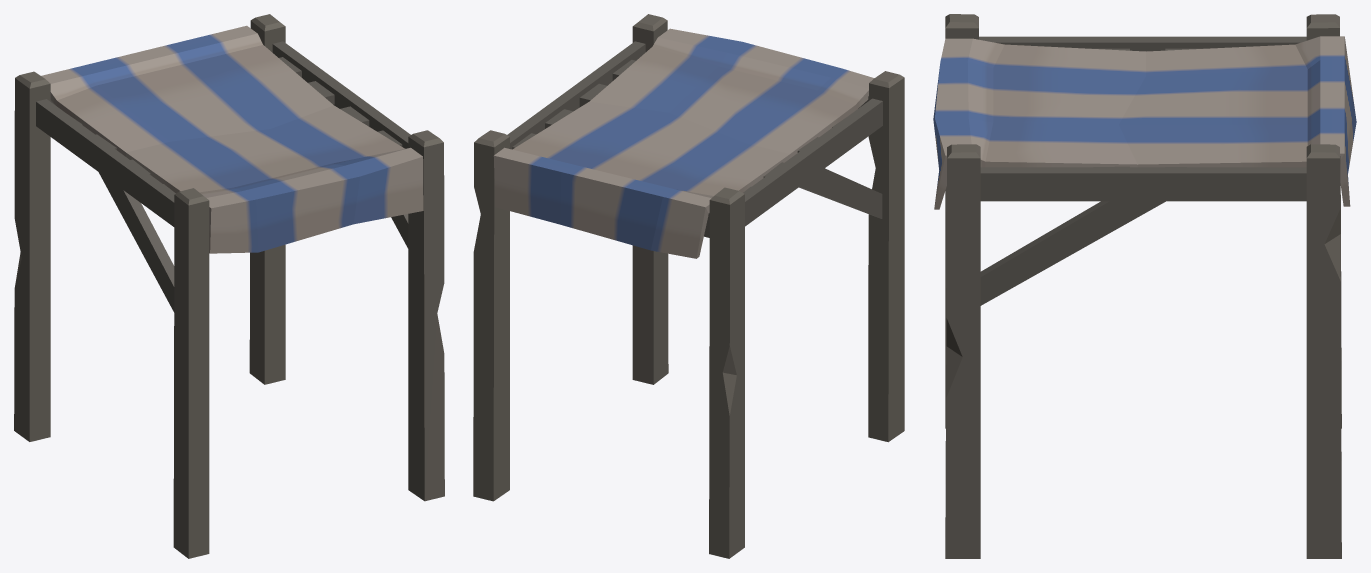
File: SM_Bld_Village_ClothCover_03.fbx
The picture shows the model from 3 angles, left to right: view 1: azimuth 30°, elevation 25°; view 2: azimuth 150°, elevation 25°; view 3: azimuth 270°, elevation 25°; orthographic projection. The views are drawn at different scales.
Parts seen in each view (by area): view 1: SM_Bld_Village_ClothCover_03, SM_Bld_Village_ClothCover_Cloth_03; view 2: SM_Bld_Village_ClothCover_03, SM_Bld_Village_ClothCover_Cloth_03; view 3: SM_Bld_Village_ClothCover_03, SM_Bld_Village_ClothCover_Cloth_03.
Part boxes in pixels (x1,y1,x2,y2): SM_Bld_Village_ClothCover_03: (14, 14, 444, 558); SM_Bld_Village_ClothCover_Cloth_03: (41, 25, 423, 253); SM_Bld_Village_ClothCover_03: (473, 14, 904, 558); SM_Bld_Village_ClothCover_Cloth_03: (493, 28, 874, 258); SM_Bld_Village_ClothCover_03: (945, 14, 1341, 558); SM_Bld_Village_ClothCover_Cloth_03: (933, 36, 1356, 209).
Bounding box in the file's own units: 214 × 285 × 270.
